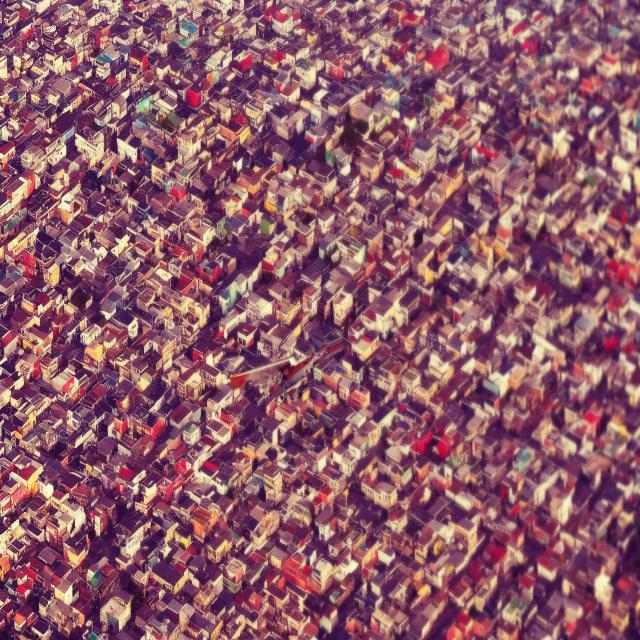airplane: (229, 341, 345, 407)
